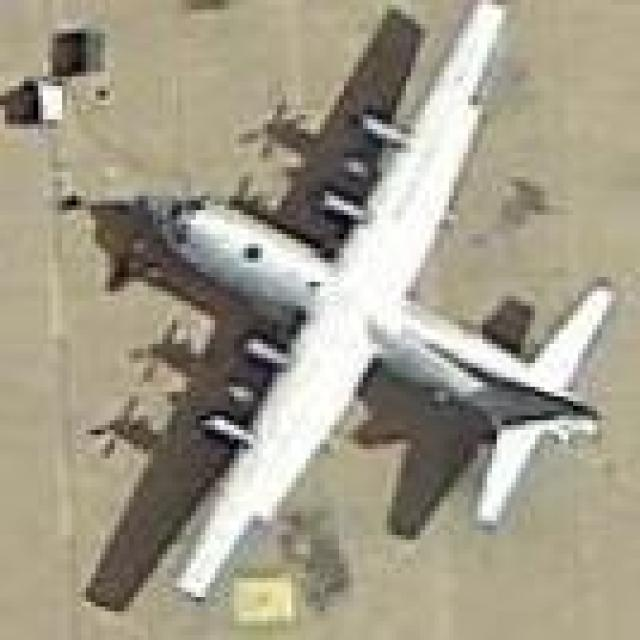C-130_TopDown: (68, 0, 618, 619)
